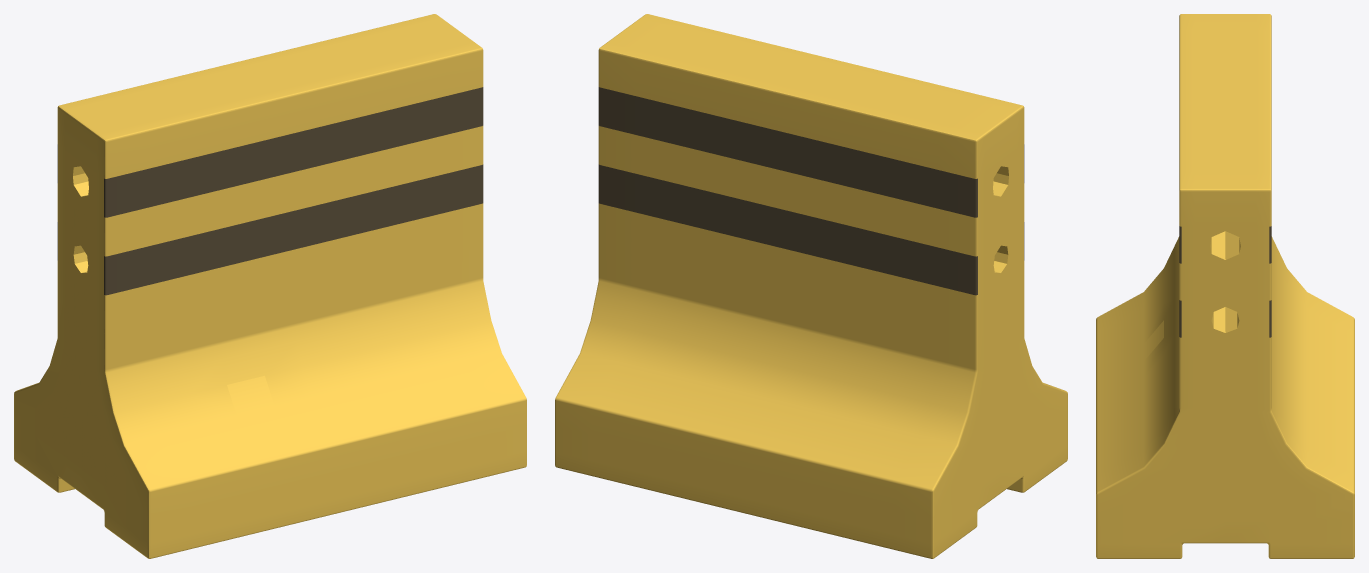
Rendered from obstacle_0.fbx.
The picture shows the model from 3 angles, left to right: view 1: azimuth 30°, elevation 25°; view 2: azimuth 150°, elevation 25°; view 3: azimuth 270°, elevation 25°; orthographic projection. The views are drawn at different scales.
Visible parts, largest first — view 1: pCube1; view 2: pCube1; view 3: pCube1.
Boxes of the visible parts, bbox=[...] form: pCube1: bbox=[14, 14, 526, 558]; pCube1: bbox=[555, 14, 1067, 558]; pCube1: bbox=[1096, 14, 1354, 558].
Size of the model in its own units: 6.05 by 5.91 by 3.75.
